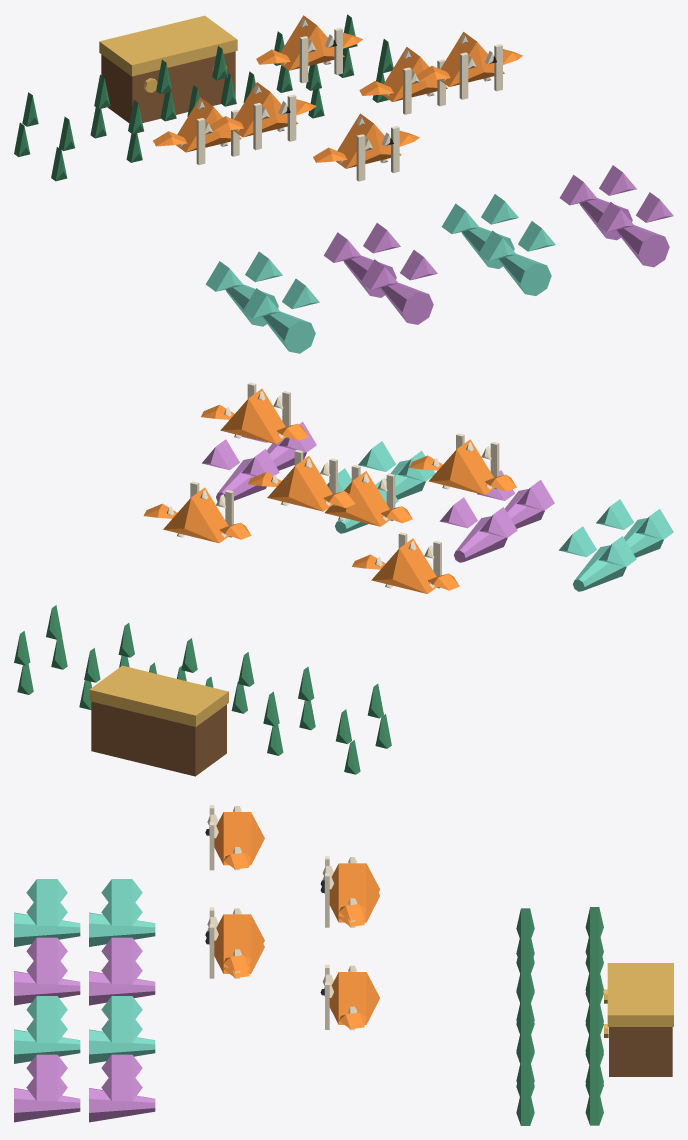
The model's file is pecera_fauna_r3.glb.
The picture shows the model from 3 angles, top to bottom: view 1: azimuth 30°, elevation 25°; view 2: azimuth 150°, elevation 25°; view 3: azimuth 270°, elevation 25°; orthographic projection.
Visible parts, largest first — view 1: pez globo naranja, coral menta, coral violeta, alga, bandas marfil, cofre latón, cofre; view 2: pez globo naranja, coral violeta, coral menta, cofre, alga, cofre latón, bandas marfil; view 3: coral violeta, coral menta, pez globo naranja, alga, cofre latón, cofre, bandas marfil.
Boxes of the visible parts, x1,y1,x2,y2 form: pez globo naranja: (153, 15, 522, 168); coral menta: (205, 194, 555, 353); coral violeta: (324, 165, 673, 324); alga: (14, 14, 393, 181); bandas marfil: (178, 18, 502, 181); cofre latón: (99, 15, 237, 92); cofre: (101, 51, 235, 122); pez globo naranja: (143, 388, 516, 593); coral violeta: (202, 421, 554, 562); coral menta: (327, 441, 673, 591); cofre: (91, 701, 226, 776); alga: (14, 605, 391, 774); cofre latón: (89, 665, 228, 726); bandas marfil: (167, 382, 499, 588); coral violeta: (14, 937, 155, 1122); coral menta: (14, 879, 155, 1063); pez globo naranja: (214, 812, 379, 1029); alga: (516, 907, 603, 1125); cofre latón: (604, 963, 673, 1037); cofre: (609, 1027, 672, 1076); bandas marfil: (207, 805, 356, 1030).
Bounding box in the file's own units: 8.57 × 3.66 × 11.45.
